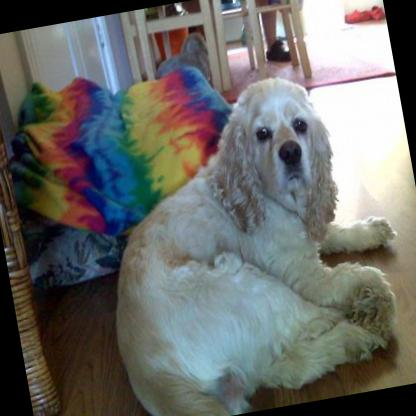cocker_spaniel: (72, 55, 416, 416)
